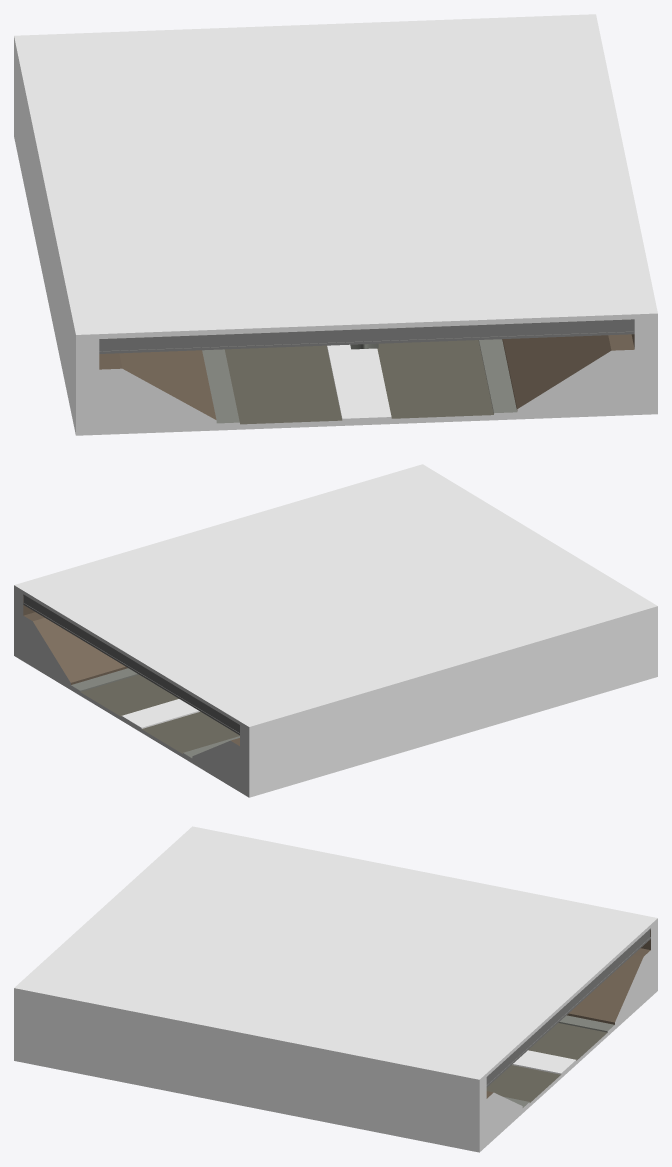
File: dinky-daus-haus-design-it-shelter-competition.glb
3 renders of one model, top to bottom at view 1: azimuth 30°, elevation 25°; view 2: azimuth 150°, elevation 25°; view 3: azimuth 270°, elevation 25°, orthographic. The views are drawn at different scales.
Visible parts, largest first — view 1: LOD0; view 2: LOD0; view 3: LOD0.
Boxes of the visible parts, box(x1,y1,x2,y2) form: LOD0: box(14, 14, 657, 435); LOD0: box(14, 464, 657, 797); LOD0: box(14, 826, 657, 1152).
Size of what is drawn, in the model's own units: 61.44 by 8.23 by 65.98.
Materials: 3 (3 with a texture image).
